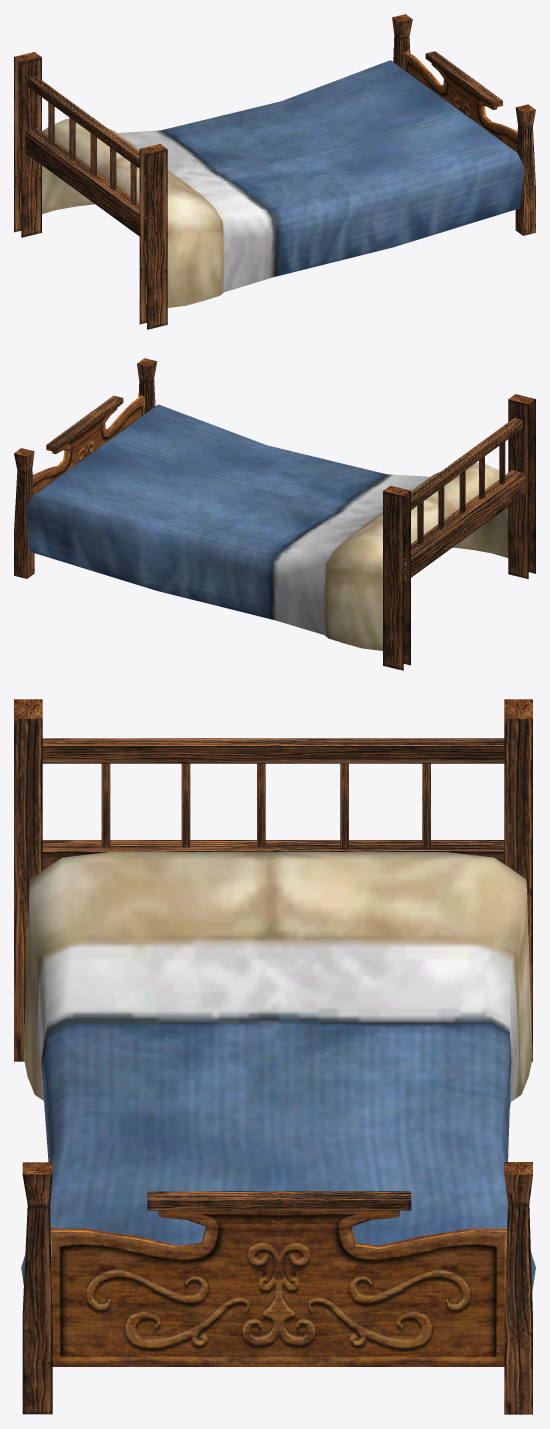
File: INST_LT_BED1.fbx
3 renders of one model, top to bottom at view 1: azimuth 30°, elevation 25°; view 2: azimuth 150°, elevation 25°; view 3: azimuth 270°, elevation 25°, orthographic. The views are drawn at different scales.
Visible parts, largest first — view 1: INST_LT_BED1; view 2: INST_LT_BED1; view 3: INST_LT_BED1.
Part boxes in pixels (x1=…): INST_LT_BED1: x1=14, y1=14, x2=535, y2=329; INST_LT_BED1: x1=14, y1=358, x2=535, y2=670; INST_LT_BED1: x1=14, y1=699, x2=535, y2=1414.
Bounding box in the file's own units: 23227 × 9959 × 13755.
Materials: 4 (4 with a texture image).
